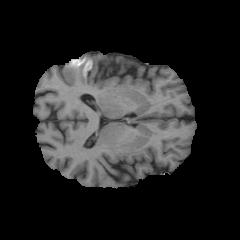glioma: (60, 54, 96, 85)
